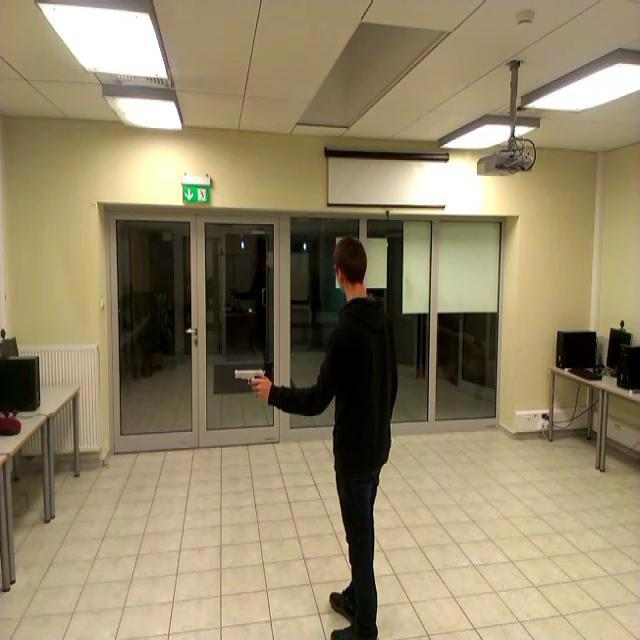weapon: (231, 367, 268, 400)
